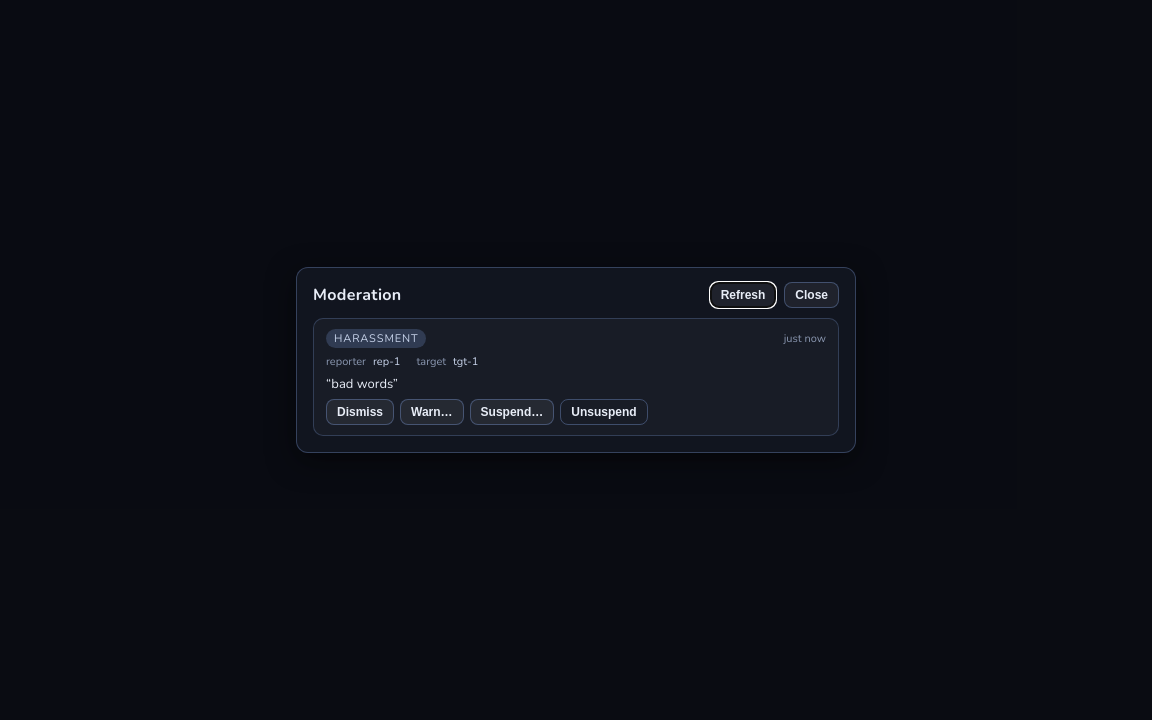
Scenario: surfaces a typed error when an action fails
Expected: the text "“bad words”" is shown, [326,375,398,393]
Click the button "Dismiss" at (360, 412), box [326,399,394,425]
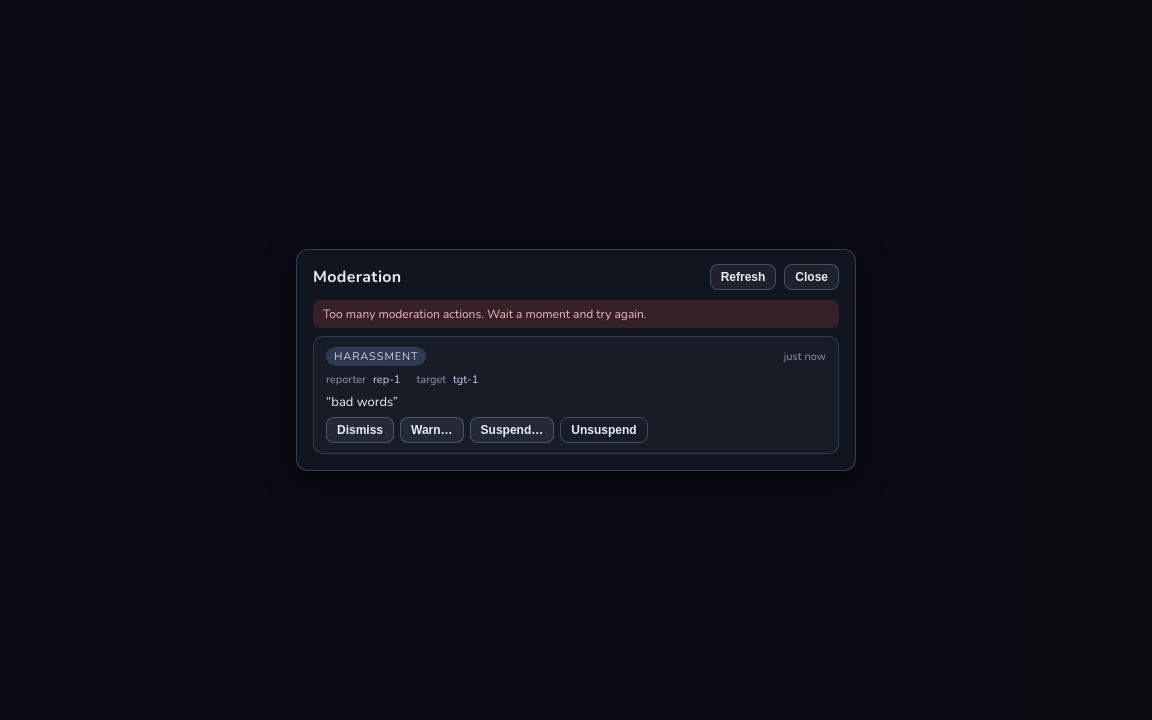
Expected: the text "Too many moderation actions. Wait a moment and try again." is shown, [313,300,839,328]
